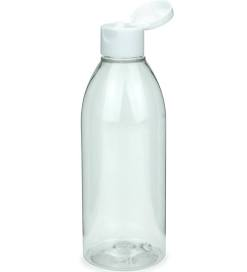PlasticBottle: (72, 1, 178, 270)
